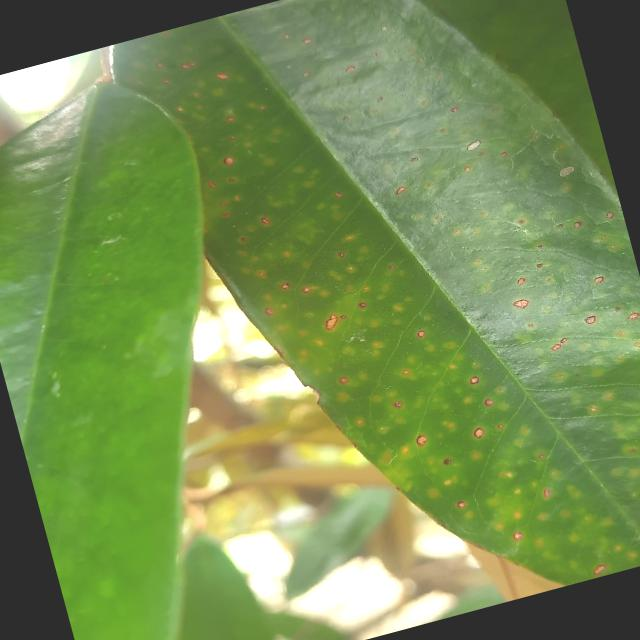Leaf Spot: (92, 0, 639, 639)
